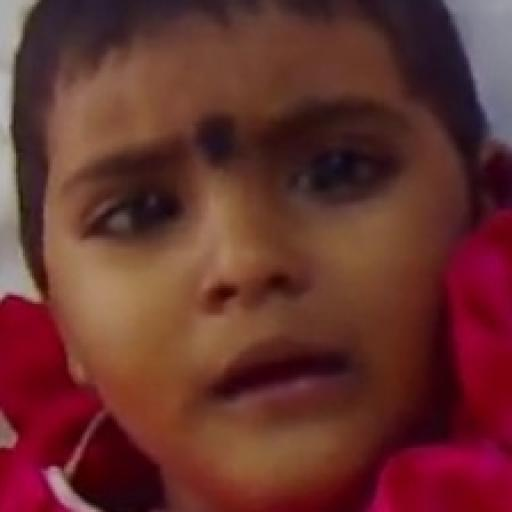Autism: (27, 0, 509, 510)
